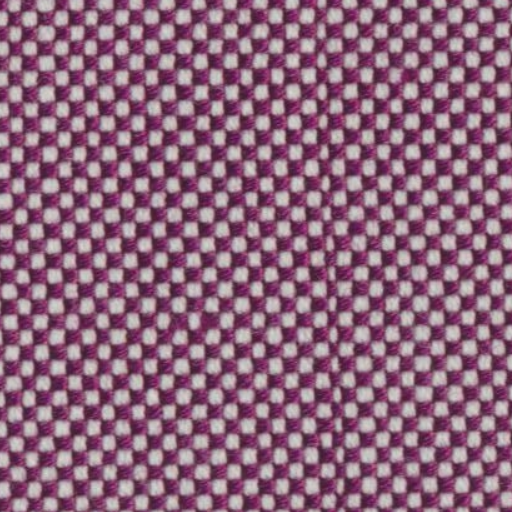TuoSha: (300, 14, 358, 502)
